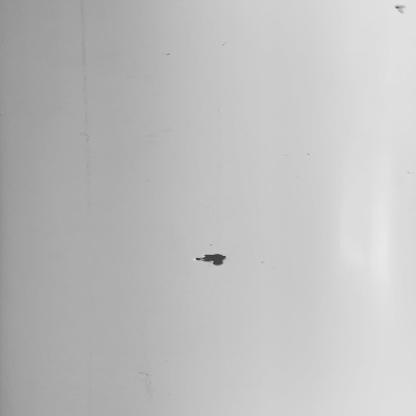kongdong: (181, 242, 234, 272)
